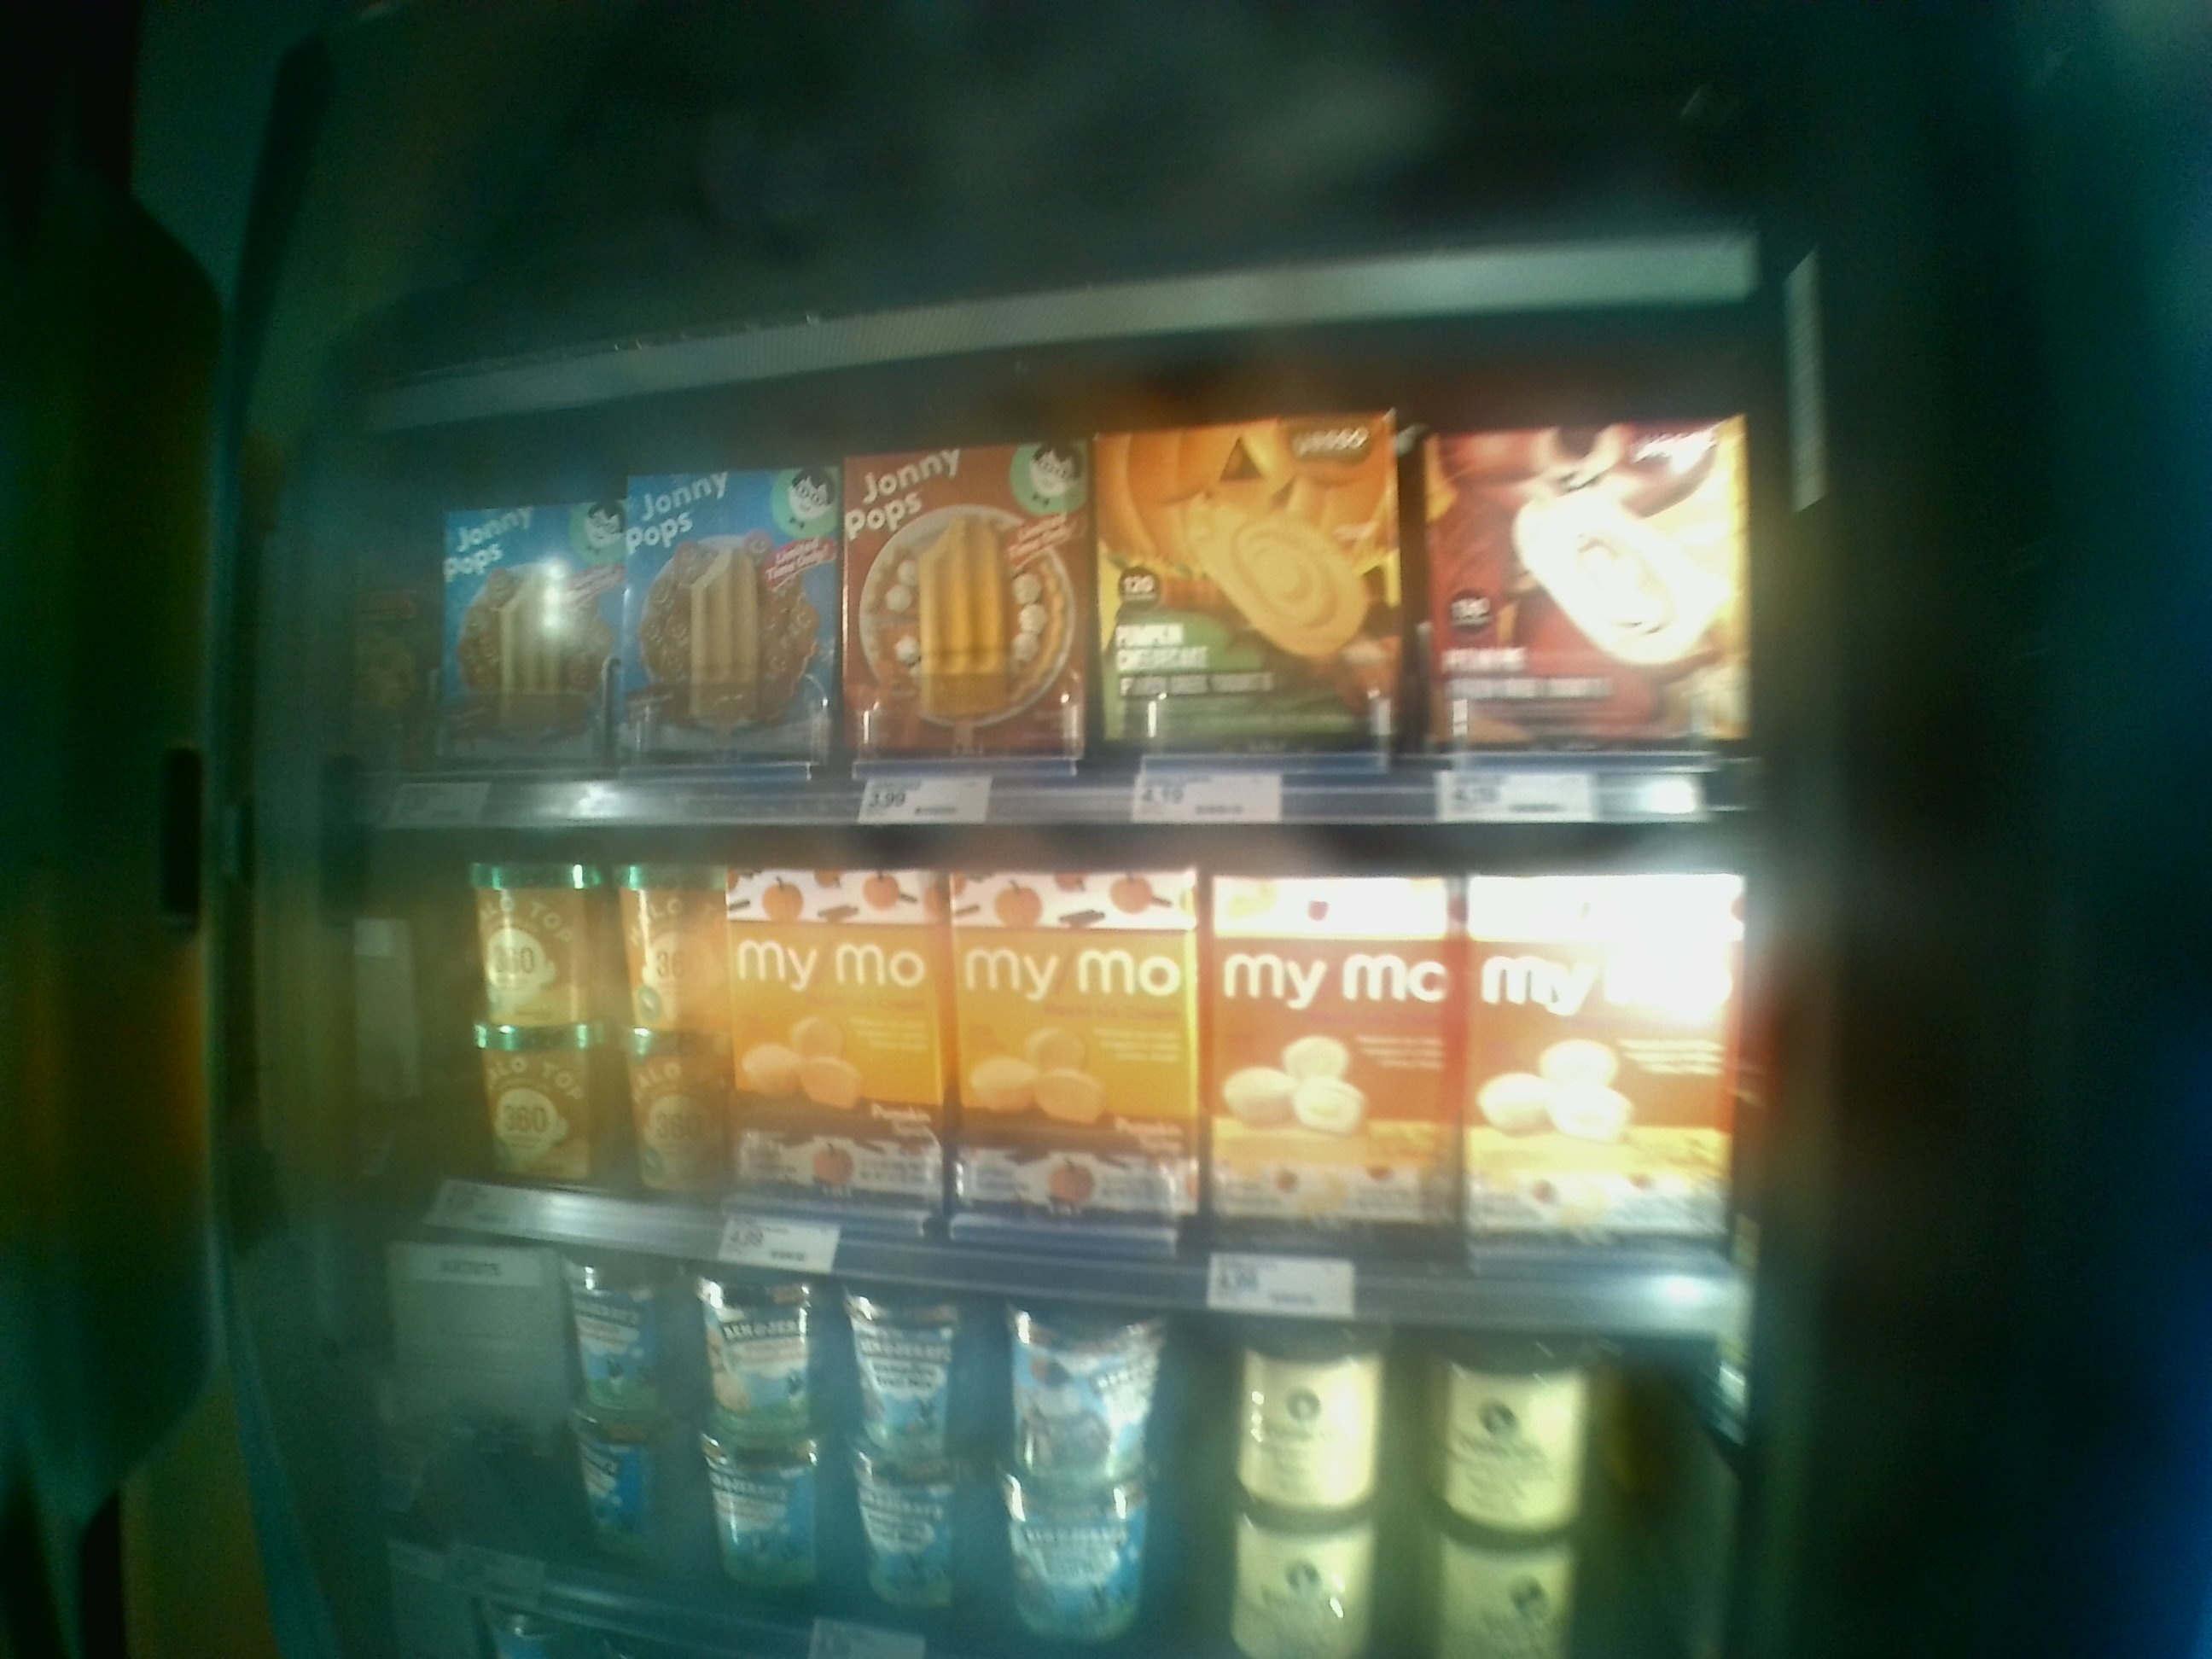shelf: (355, 845, 1773, 1335), (359, 437, 1768, 838)
